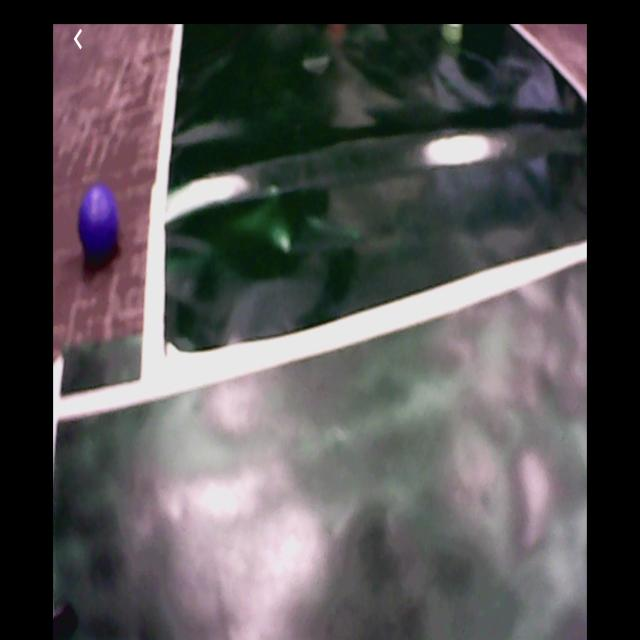ball: (78, 189, 120, 256)
